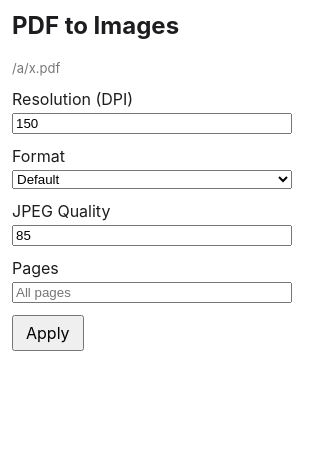
Test: convert tools › renders pages to images and lists every file
Select "Jpeg" in the dropdown labelled "Format": (152, 179) [12,170,292,189]
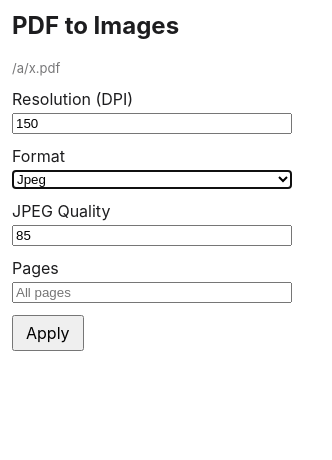
Replace the text in the number field labelled "Resolution (DPI)" with "300": (152, 123) [12,113,292,134]
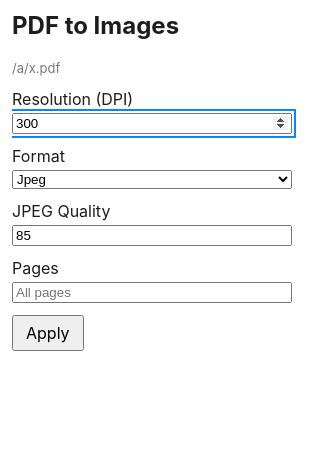
Click the button "Apply": (48, 333) [12,315,84,351]
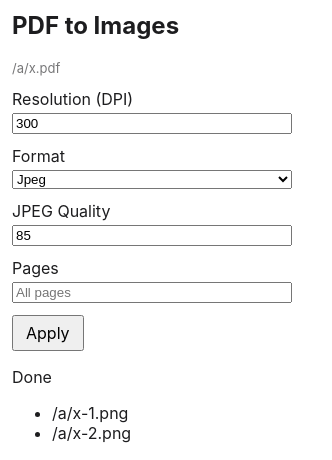
Now the list item "/a/x-2.png" is shown, box [52,423,131,443]
